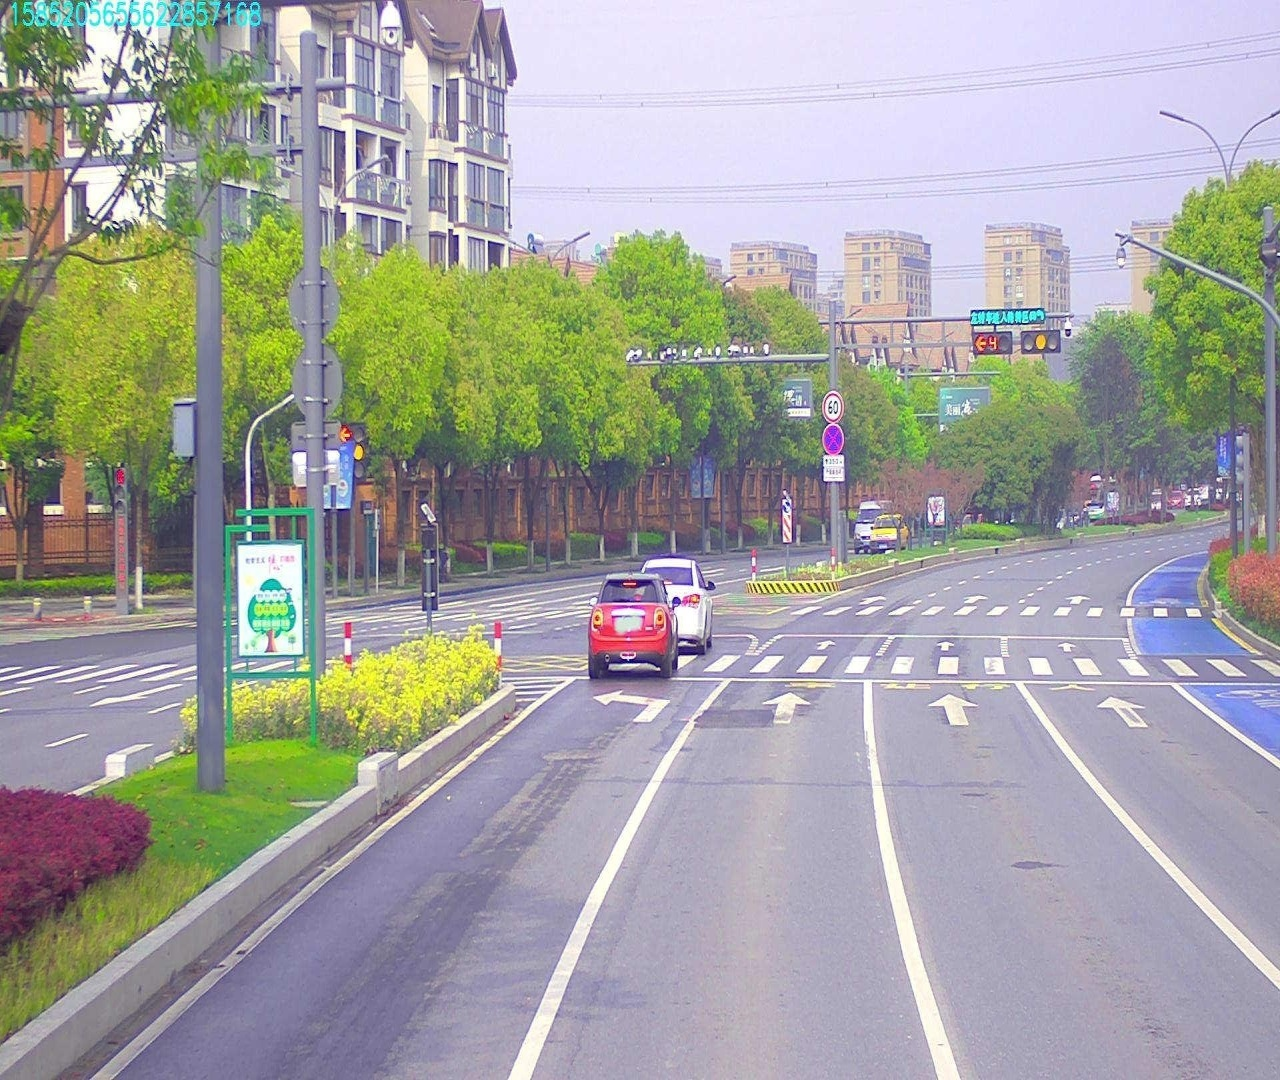yellow: (1022, 331, 1058, 354)
